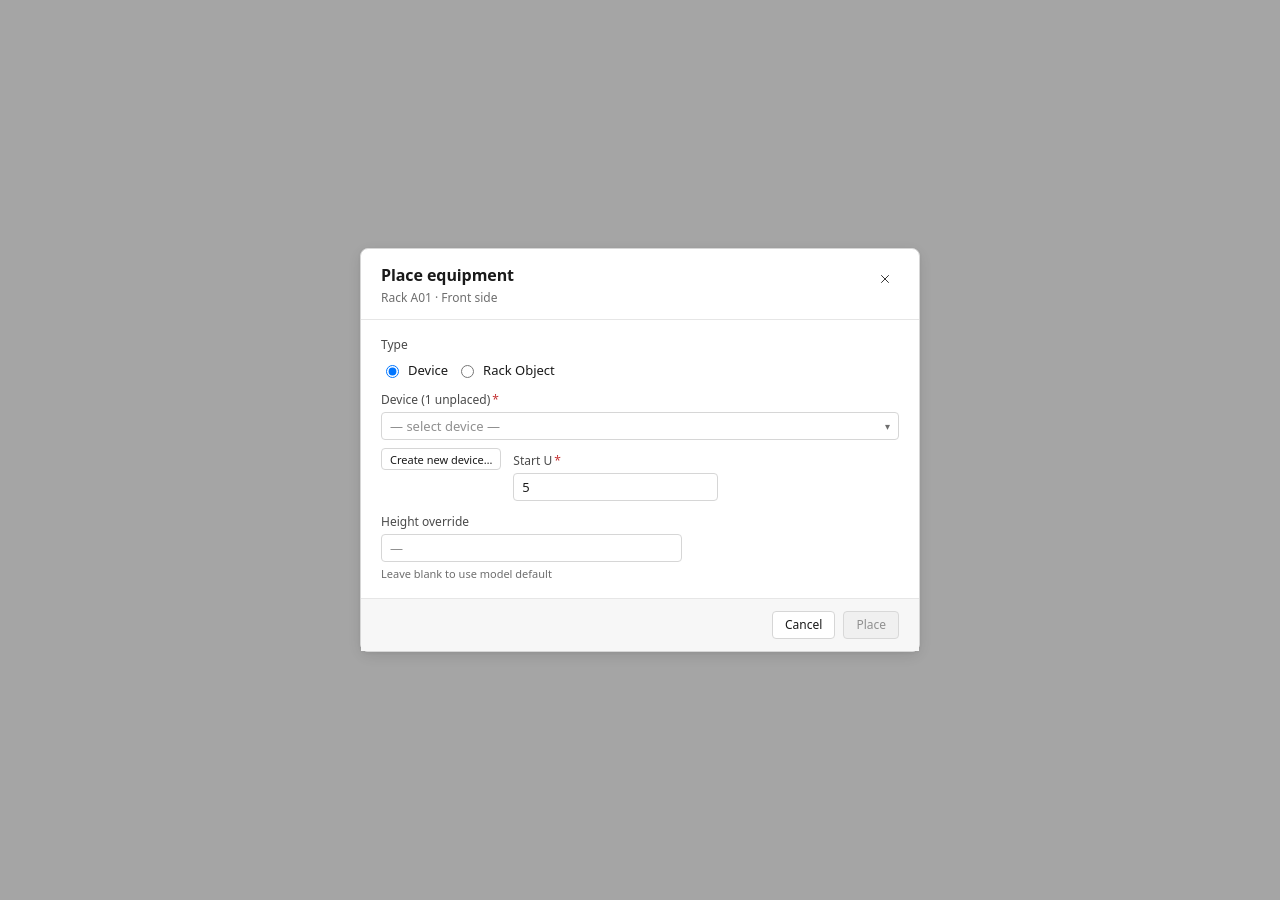
Scenario: PlacePlacementModal — open › Place button is enabled after selecting a device
The width and height of the screenshot is (1280, 900).
Click the button with test id "device-select-trigger": [445, 426] box [381, 412, 899, 440]
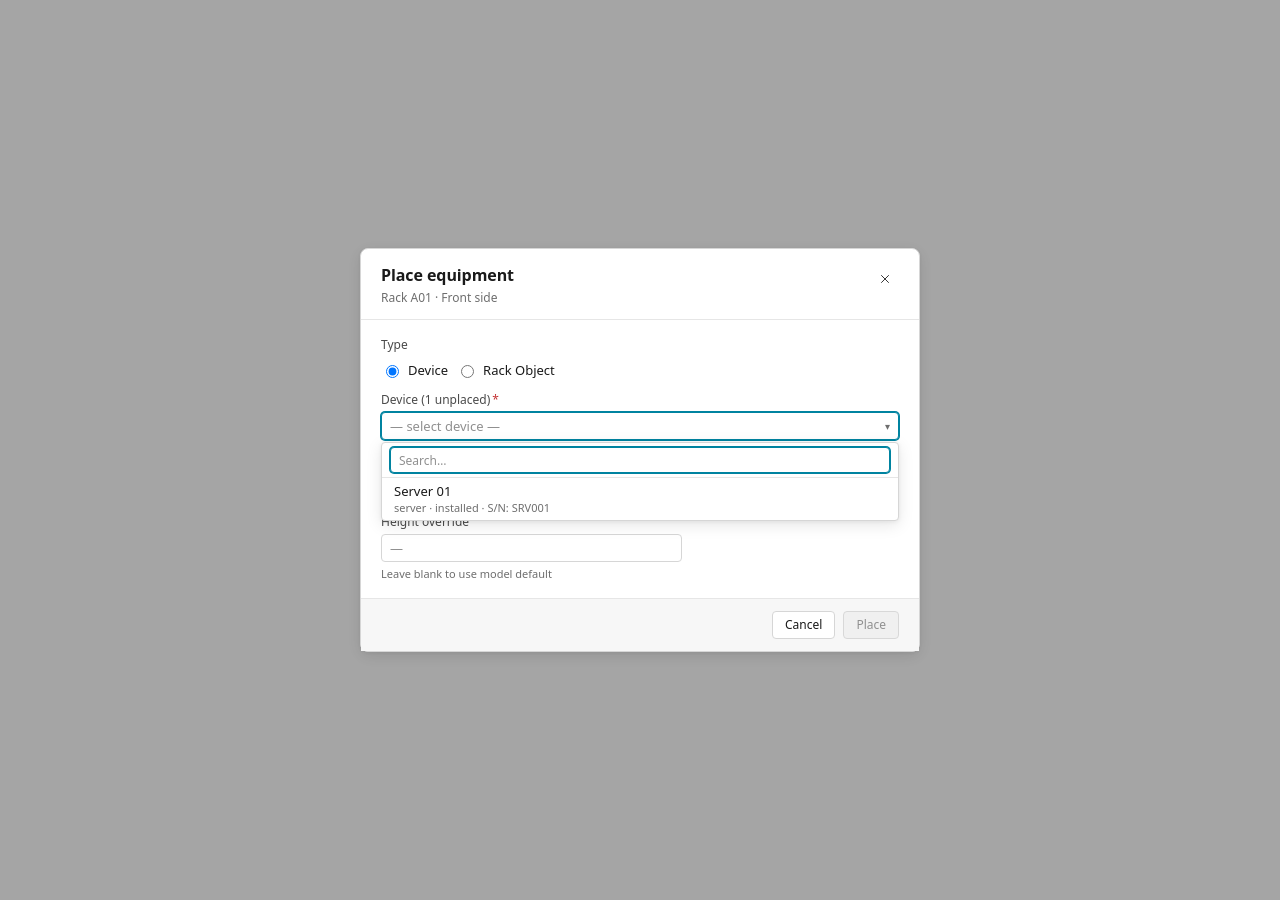
Press the mouse on the option with class "ss-option": [472, 499] box [394, 482, 550, 515]
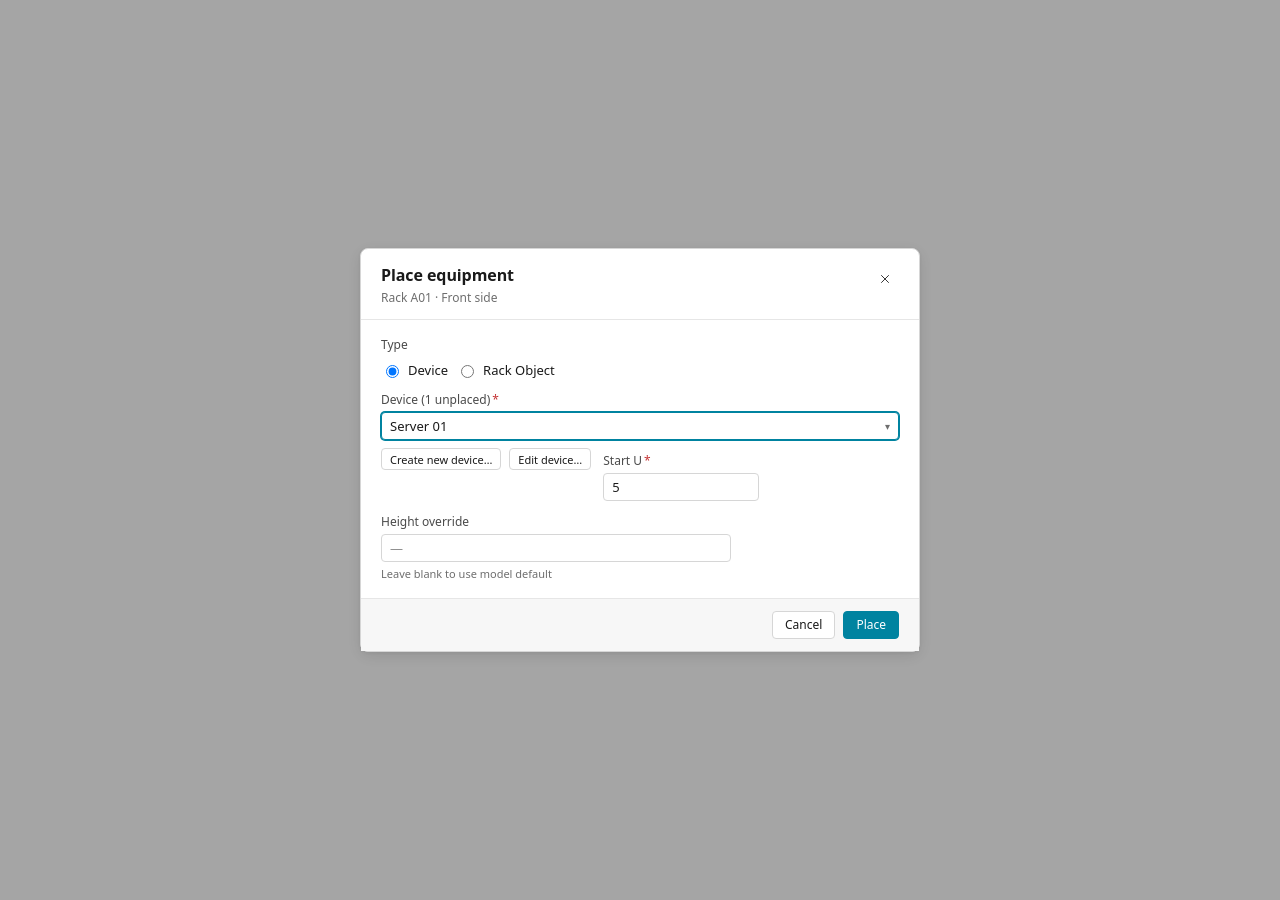
Check: the button with test id "place-btn" is enabled, box [843, 611, 899, 639]
